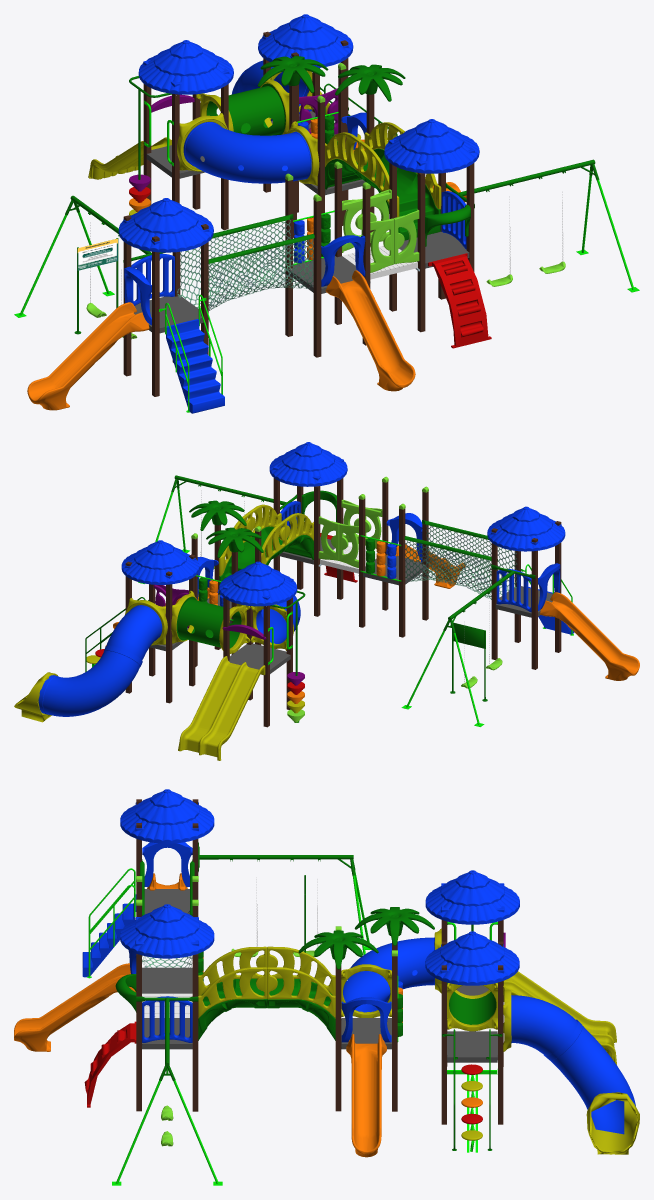
The picture shows the model from 3 angles, top to bottom: view 1: azimuth 30°, elevation 25°; view 2: azimuth 150°, elevation 25°; view 3: azimuth 270°, elevation 25°; orthographic projection. The views are drawn at different scales.
Parts seen in each view (by area): view 1: object 5, object 12, object 3, object 2, object 4, TOLDO M2.002, TOLDO M2, TOLDO M2.001, object 6, TOLDO M2.003, object 7, COLUNA MAD PLAST 9 X 9CM.011 (+30 smaller); view 2: object 5, object 4, object 12, object 2, object 3, TOLDO M2, TOLDO M2.002, TOLDO M2.001, TOLDO M2.003, JOGO DA VELHA.001, PLATAFORMA M1.010, COQUEIRO M1.001 (+27 smaller); view 3: object 5, object 3, object 2, object 4, TOLDO M2, TOLDO M2.002, TOLDO M2.003, TOLDO M2.001, LATERAL M1.003, PLATAFORMA M1.004, LATERAL M1.002, FECHAMENTO M1.001 (+21 smaller).
Part boxes in pixels (x1=…): object 5: x1=166, y1=60, x2=397, y2=413; object 12: x1=177, y1=189, x2=419, y2=310; object 3: x1=27, y1=149, x2=466, y2=410; object 2: x1=206, y1=83, x2=470, y2=246; object 4: x1=88, y1=76, x2=338, y2=215; TOLDO M2.002: x1=384, y1=119, x2=479, y2=173; TOLDO M2: x1=138, y1=40, x2=233, y2=94; TOLDO M2.001: x1=118, y1=198, x2=213, y2=252; object 6: x1=428, y1=253, x2=491, y2=348; TOLDO M2.003: x1=258, y1=14, x2=353, y2=67; object 7: x1=159, y1=214, x2=314, y2=412; COLUNA MAD PLAST 9 X 9CM.011: x1=313, y1=200, x2=321, y2=357; object 5: x1=38, y1=587, x2=574, y2=716; object 4: x1=14, y1=584, x2=305, y2=760; object 12: x1=318, y1=499, x2=517, y2=599; object 2: x1=176, y1=490, x2=336, y2=648; object 3: x1=113, y1=544, x2=639, y2=680; TOLDO M2: x1=219, y1=561, x2=297, y2=606; TOLDO M2.002: x1=269, y1=442, x2=347, y2=486; TOLDO M2.001: x1=487, y1=506, x2=565, y2=551; TOLDO M2.003: x1=121, y1=540, x2=199, y2=584; JOGO DA VELHA.001: x1=360, y1=535, x2=401, y2=581; PLATAFORMA M1.010: x1=229, y1=643, x2=290, y2=674; COQUEIRO M1.001: x1=189, y1=500, x2=246, y2=530; object 5: x1=82, y1=894, x2=635, y2=1152; object 3: x1=14, y1=873, x2=386, y2=1157; object 2: x1=115, y1=974, x2=497, y2=1040; object 4: x1=447, y1=921, x2=639, y2=1154; TOLDO M2: x1=425, y1=870, x2=519, y2=924; TOLDO M2.002: x1=120, y1=904, x2=214, y2=958; TOLDO M2.003: x1=425, y1=931, x2=519, y2=985; TOLDO M2.001: x1=120, y1=789, x2=214, y2=843; LATERAL M1.003: x1=267, y1=967, x2=335, y2=1018; PLATAFORMA M1.004: x1=447, y1=1031, x2=497, y2=1062; LATERAL M1.002: x1=198, y1=967, x2=266, y2=1018; FECHAMENTO M1.001: x1=142, y1=996, x2=192, y2=1042.
Bounding box in the file's own units: 10.75 × 3.46 × 10.12.
Materials: 52 (4 with a texture image).
